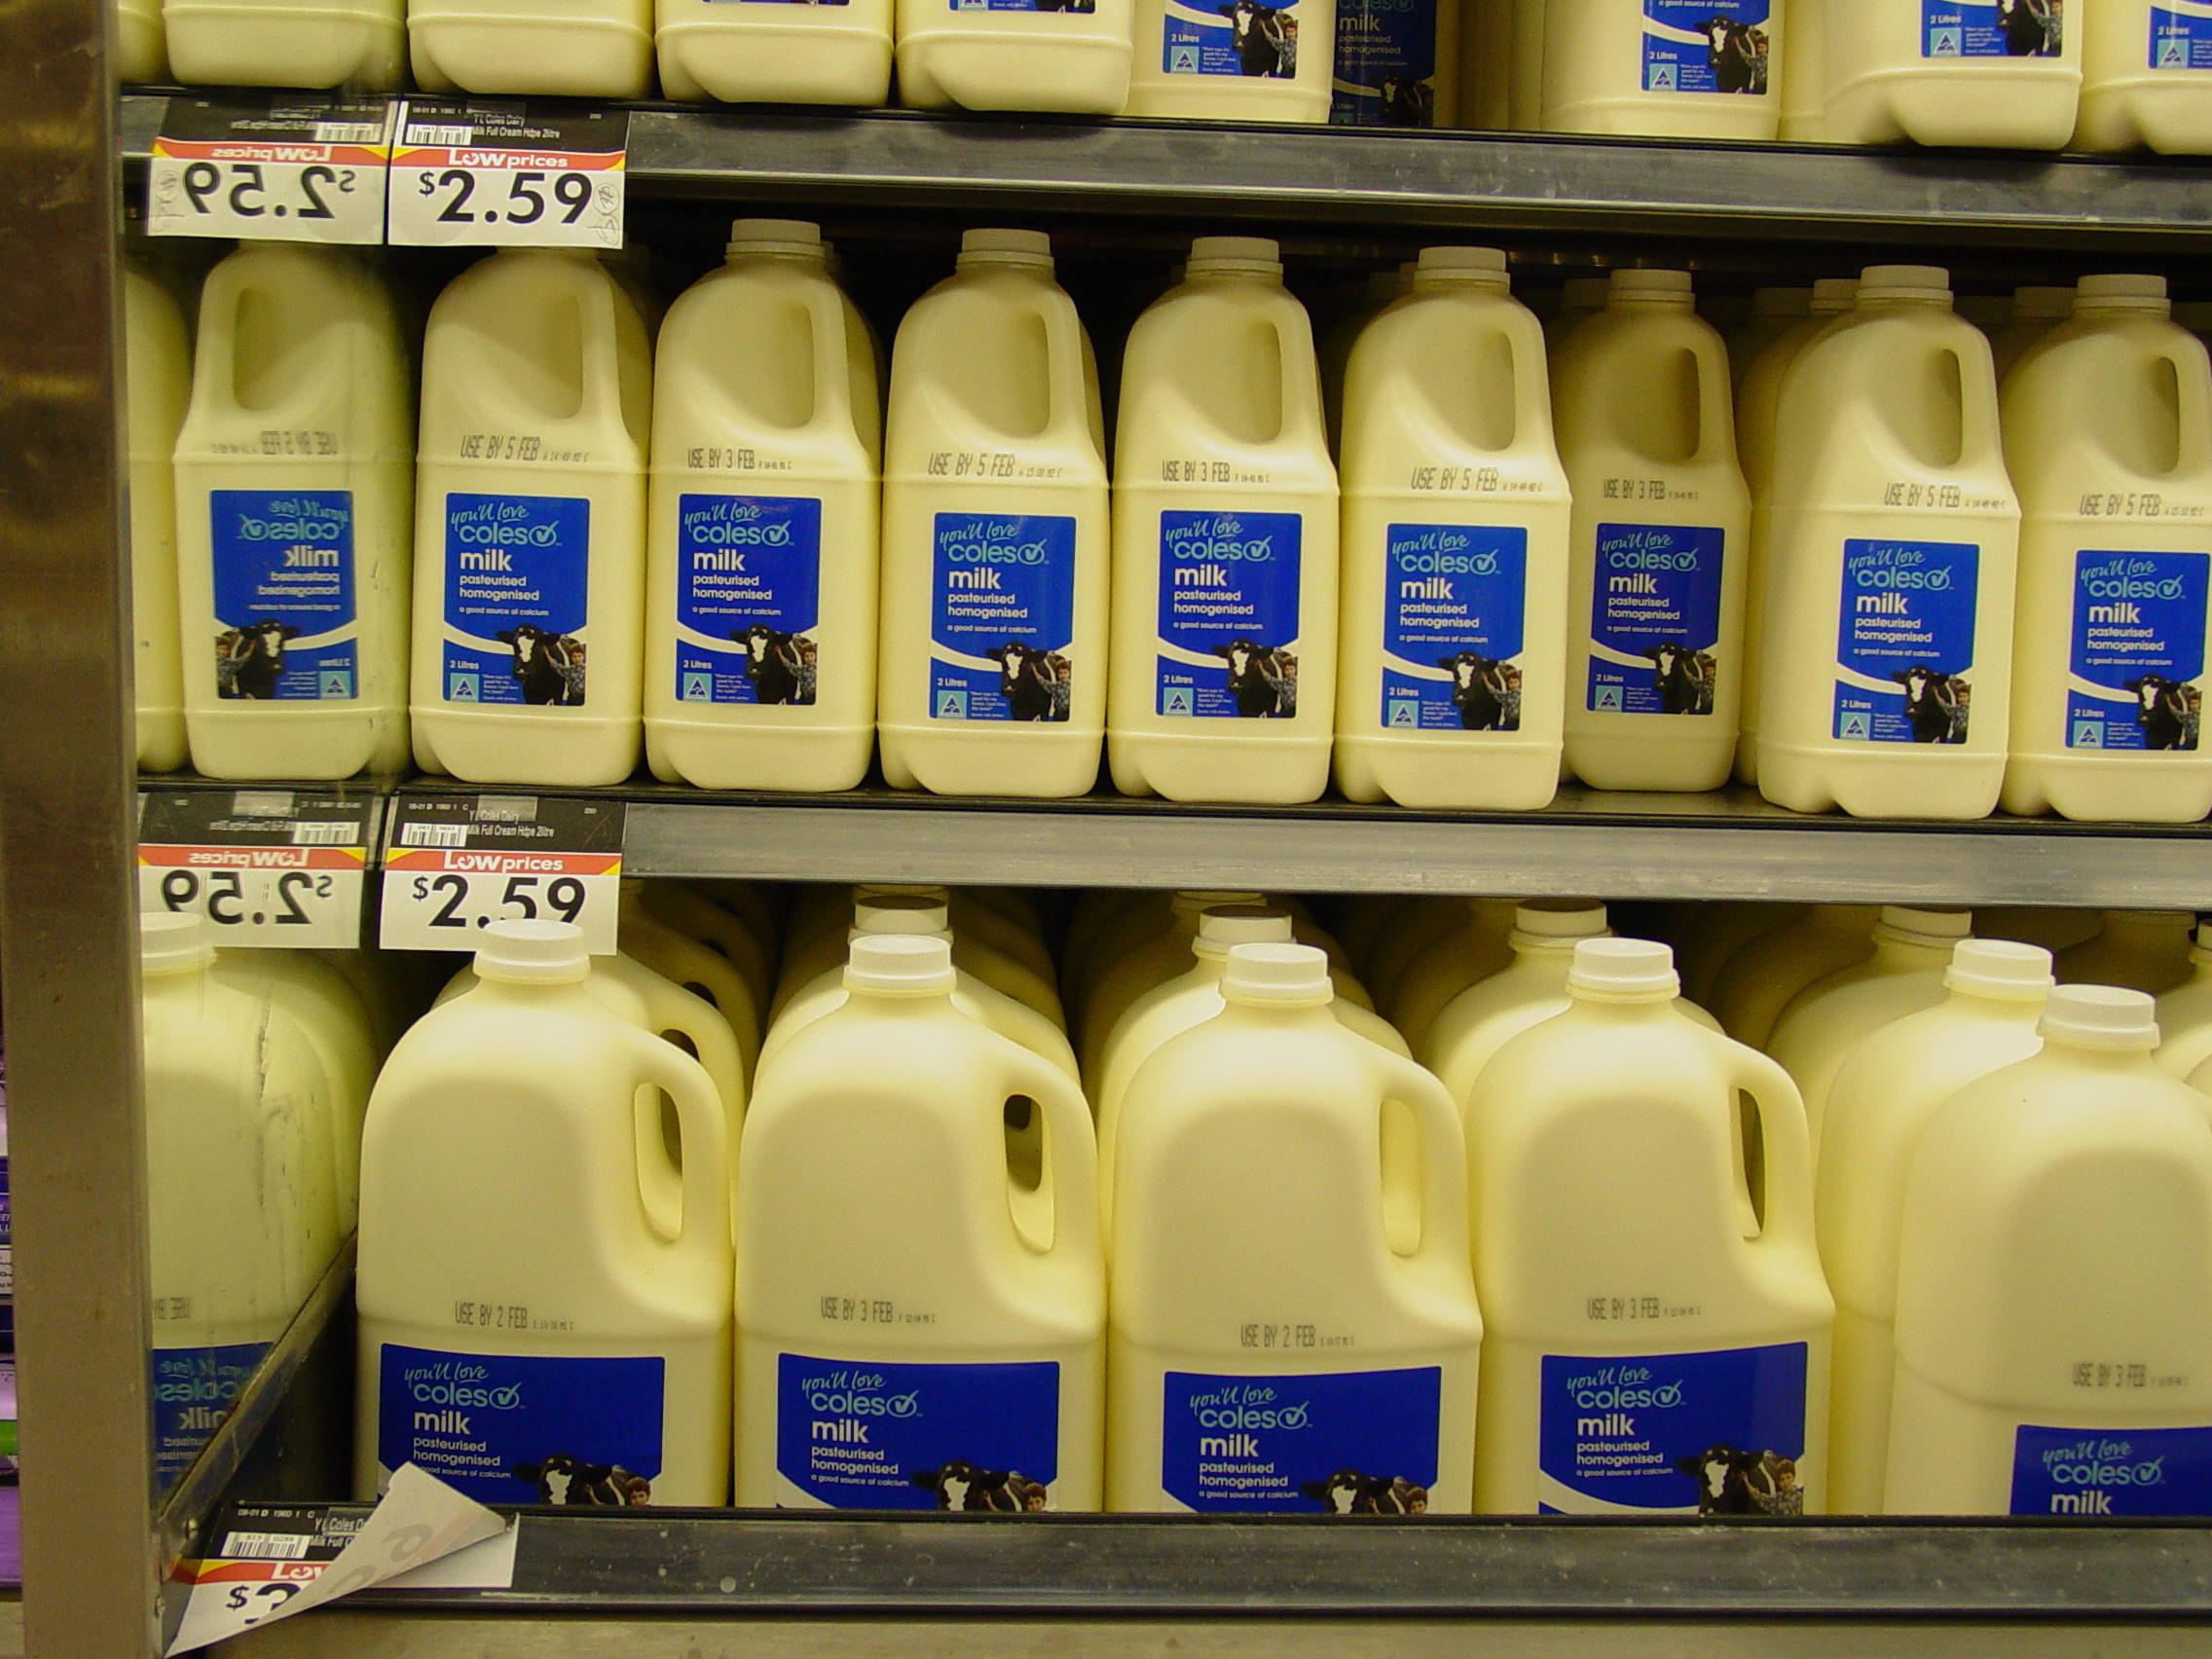Misplacement: (1548, 234, 1782, 814)
